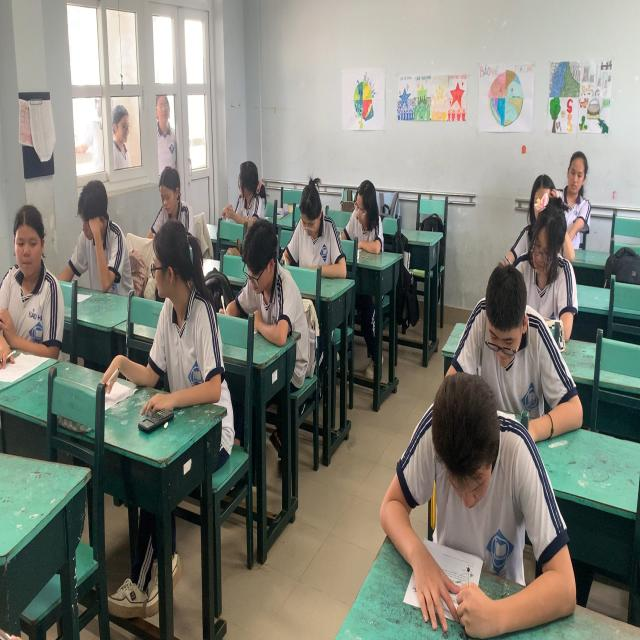cheating: (121, 210, 232, 448), (0, 166, 67, 360)
not_cheating: (367, 404, 574, 572), (421, 267, 542, 470), (216, 180, 314, 379), (45, 129, 137, 310), (503, 165, 580, 341), (272, 151, 359, 304), (322, 148, 407, 297), (136, 134, 222, 276), (198, 116, 280, 256), (553, 130, 594, 310)
